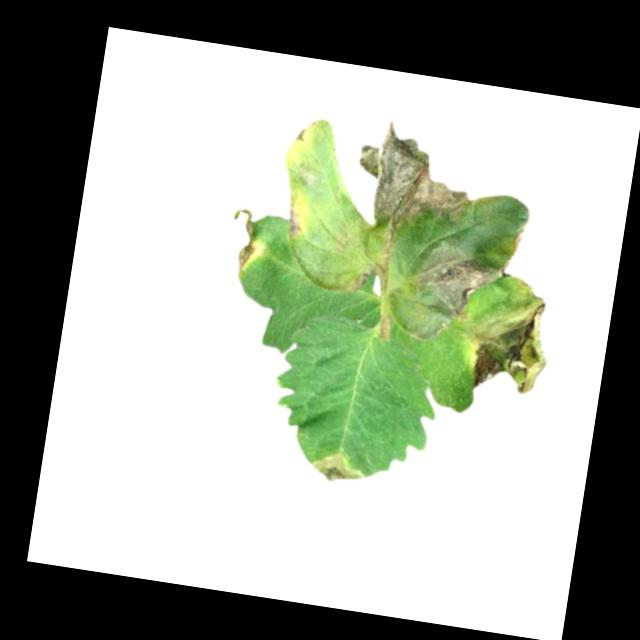Late_blight: (351, 116, 470, 237), (463, 276, 563, 398), (404, 240, 508, 349), (223, 203, 267, 274), (308, 449, 367, 488), (506, 225, 532, 269), (281, 201, 307, 241), (348, 268, 373, 295)
